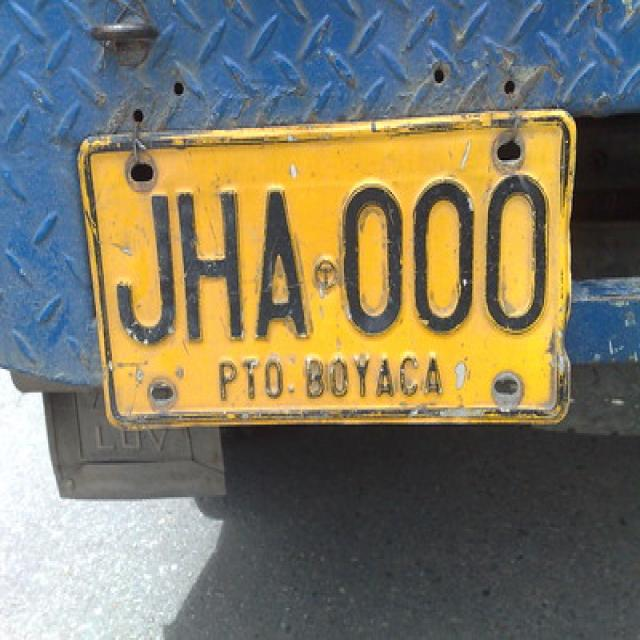placa_carro: (81, 93, 581, 431)
